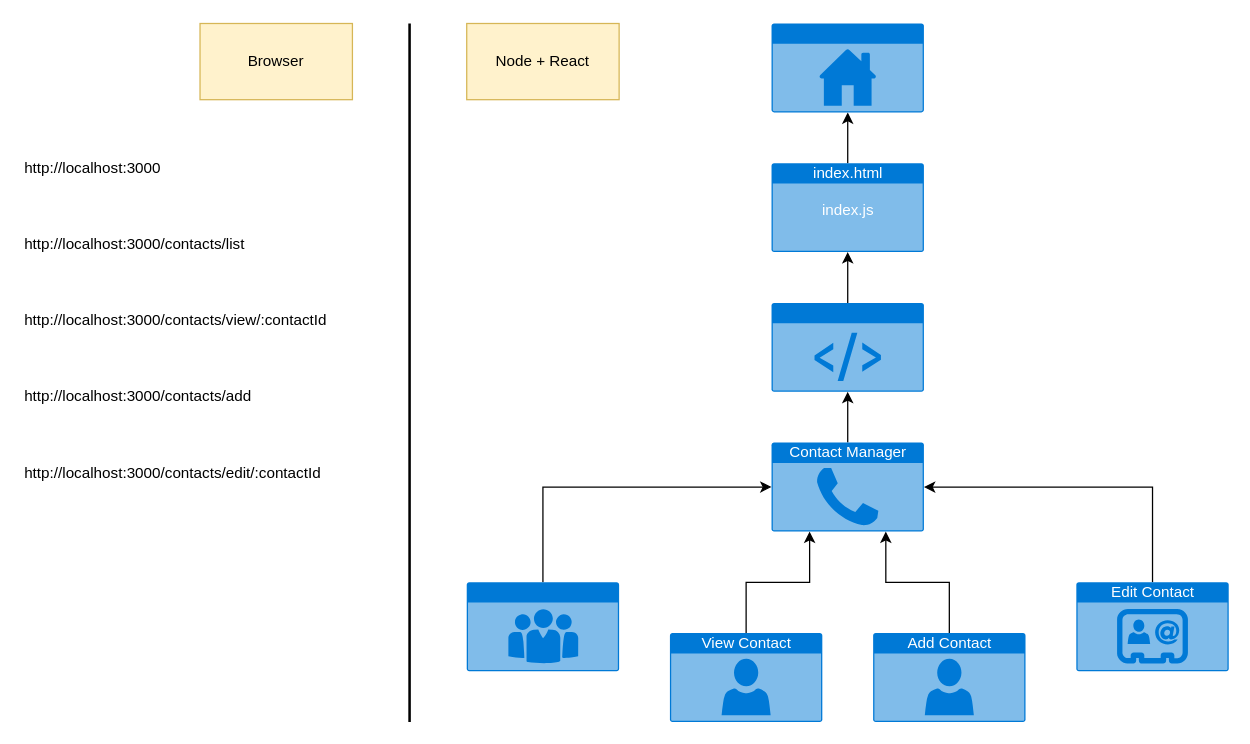
The diagram is 1250 pixels wide and 744 high, and some of its shapes have lost their labels. The shapes that lost their labels are listed below. From the top down, each one's centre as x and y in pixels, then its label:
the point at 847,67: Home
the point at 847,346: App.js
the point at 542,626: Contact List
